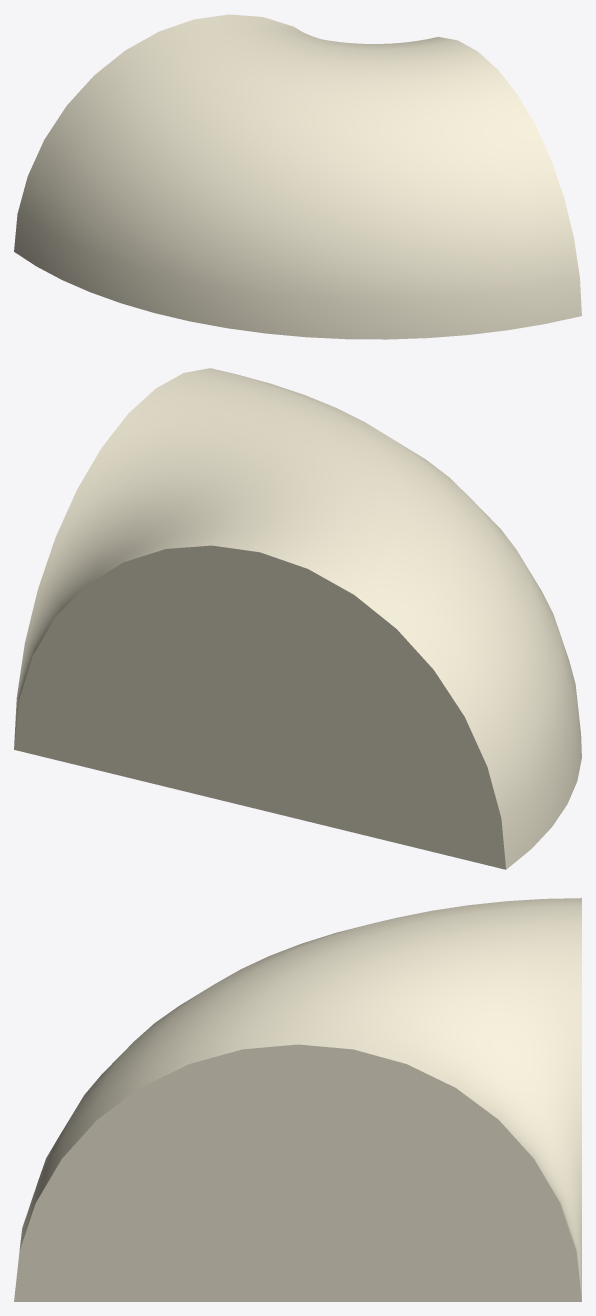
The model's file is AFJ_Modular_Gate_Corner_Left.fbx.
The picture shows the model from 3 angles, top to bottom: view 1: azimuth 30°, elevation 25°; view 2: azimuth 150°, elevation 25°; view 3: azimuth 270°, elevation 25°; orthographic projection. The views are drawn at different scales.
Visible parts, largest first — view 1: Module_Gate_Corner_Left; view 2: Module_Gate_Corner_Left; view 3: Module_Gate_Corner_Left.
Boxes of the visible parts, x1,y1,x2,y2 form: Module_Gate_Corner_Left: (14, 14, 581, 339); Module_Gate_Corner_Left: (14, 368, 581, 869); Module_Gate_Corner_Left: (14, 898, 581, 1301).
Bounding box in the file's own units: 50 × 25 × 50.
